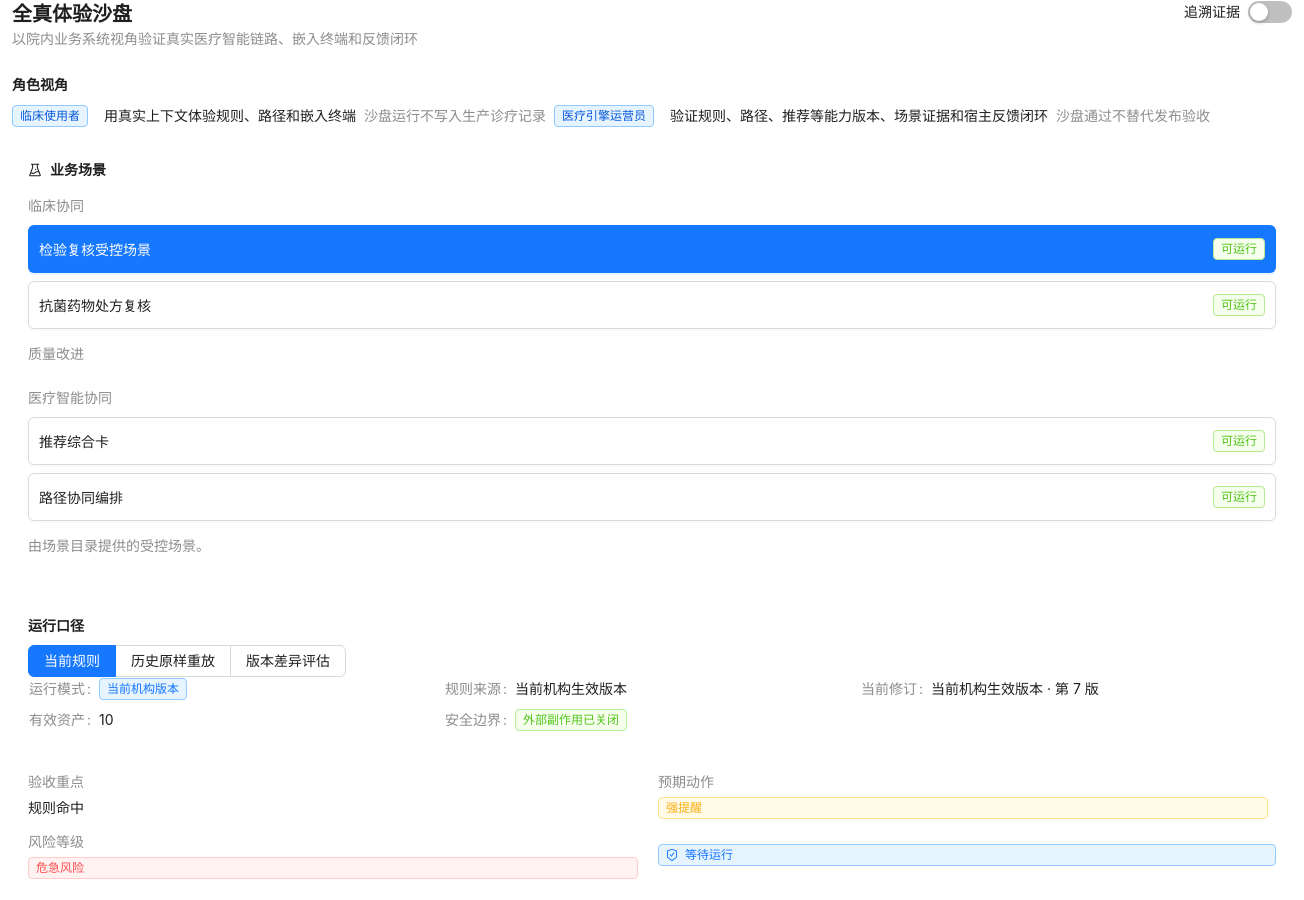
Test case: SandboxHost › uses clinical rule wording instead of engine module terminology
Click the button "抗菌药物处方复核 可运行". click: {"x": 95, "y": 306}
box: x1=28 y1=281 x2=1276 y2=329
(page scrolled)
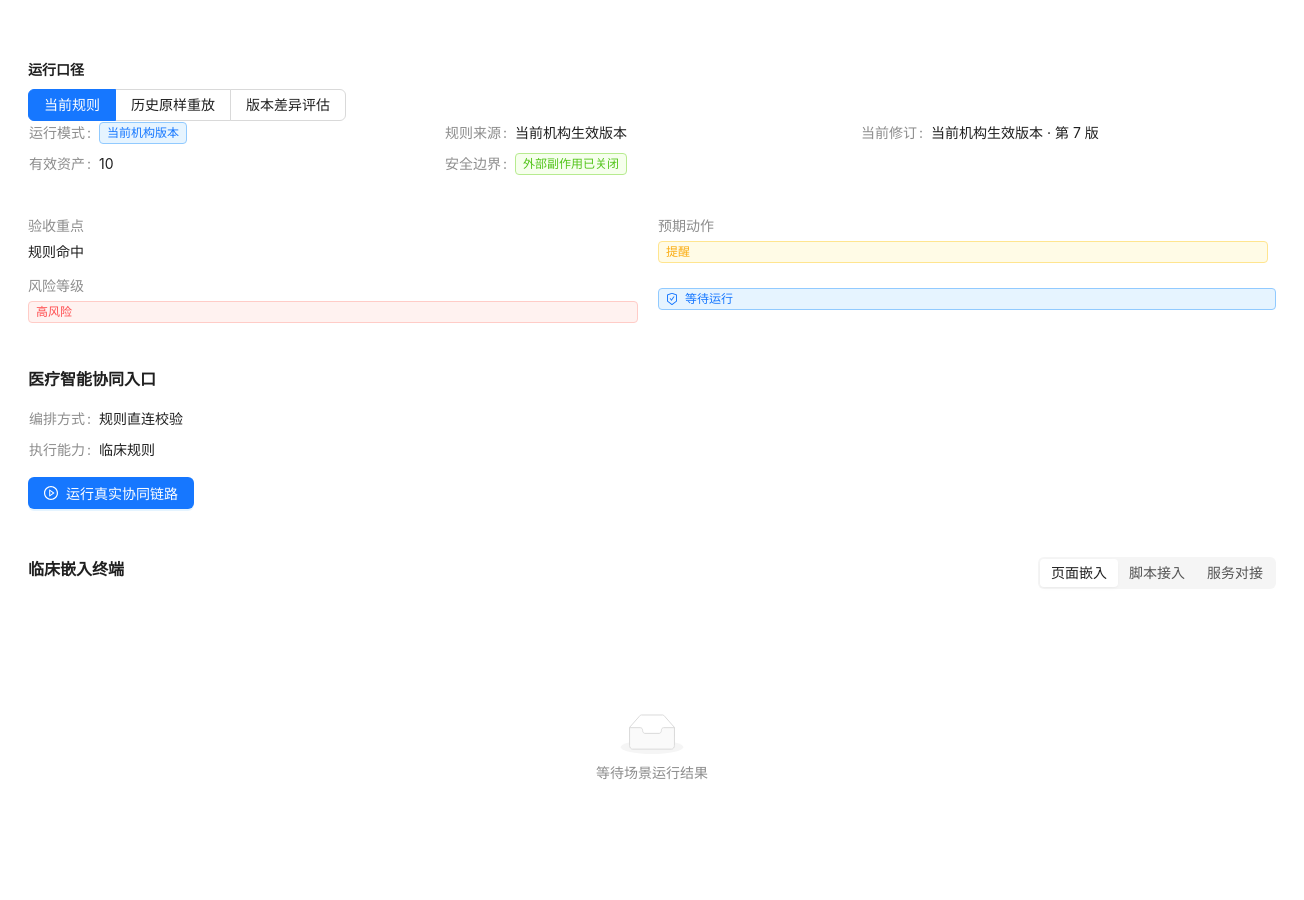
Now the text "临床规则" is shown, box x1=99 y1=441 x2=155 y2=458
